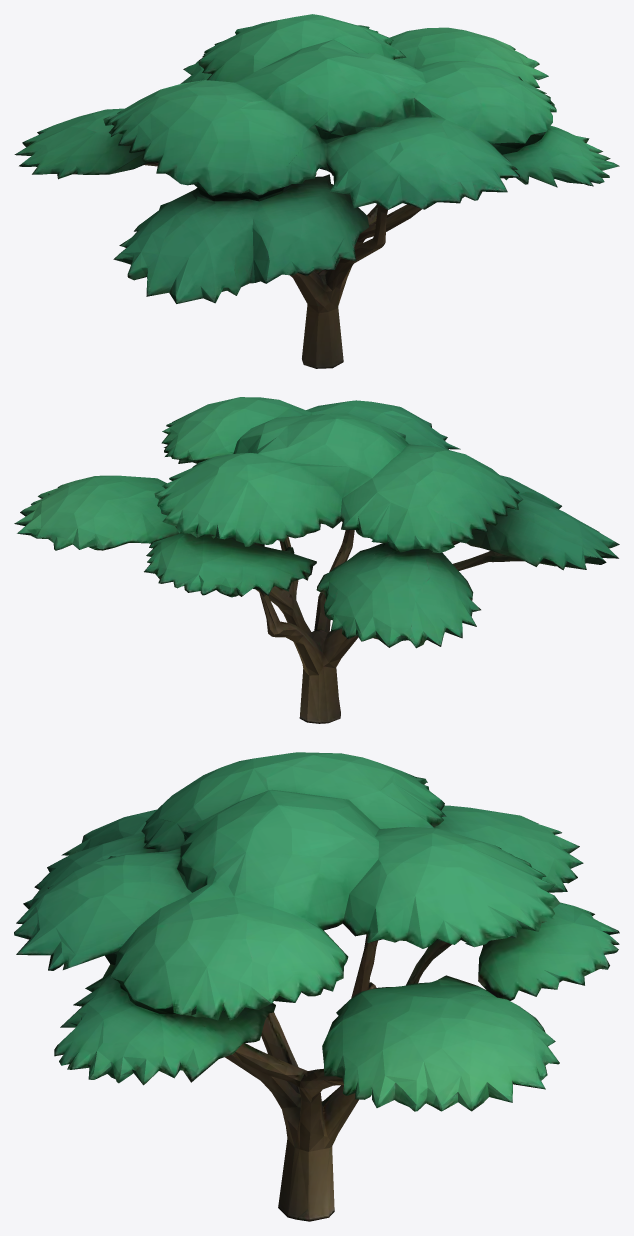
The model's file is acacia_tree.glb.
3 renders of one model, top to bottom at view 1: azimuth 30°, elevation 25°; view 2: azimuth 150°, elevation 25°; view 3: azimuth 270°, elevation 25°, orthographic. The views are drawn at different scales.
Visible parts, largest first — view 1: world; view 2: world; view 3: world.
Boxes of the visible parts, left/top/right/bottom form: world: left=14, top=14, right=619, bottom=368; world: left=14, top=397, right=619, bottom=723; world: left=14, top=752, right=619, bottom=1221.
Bounding box in the file's own units: 0.995 × 0.5805 × 0.7961.
Materials: 1 (1 with a texture image).
